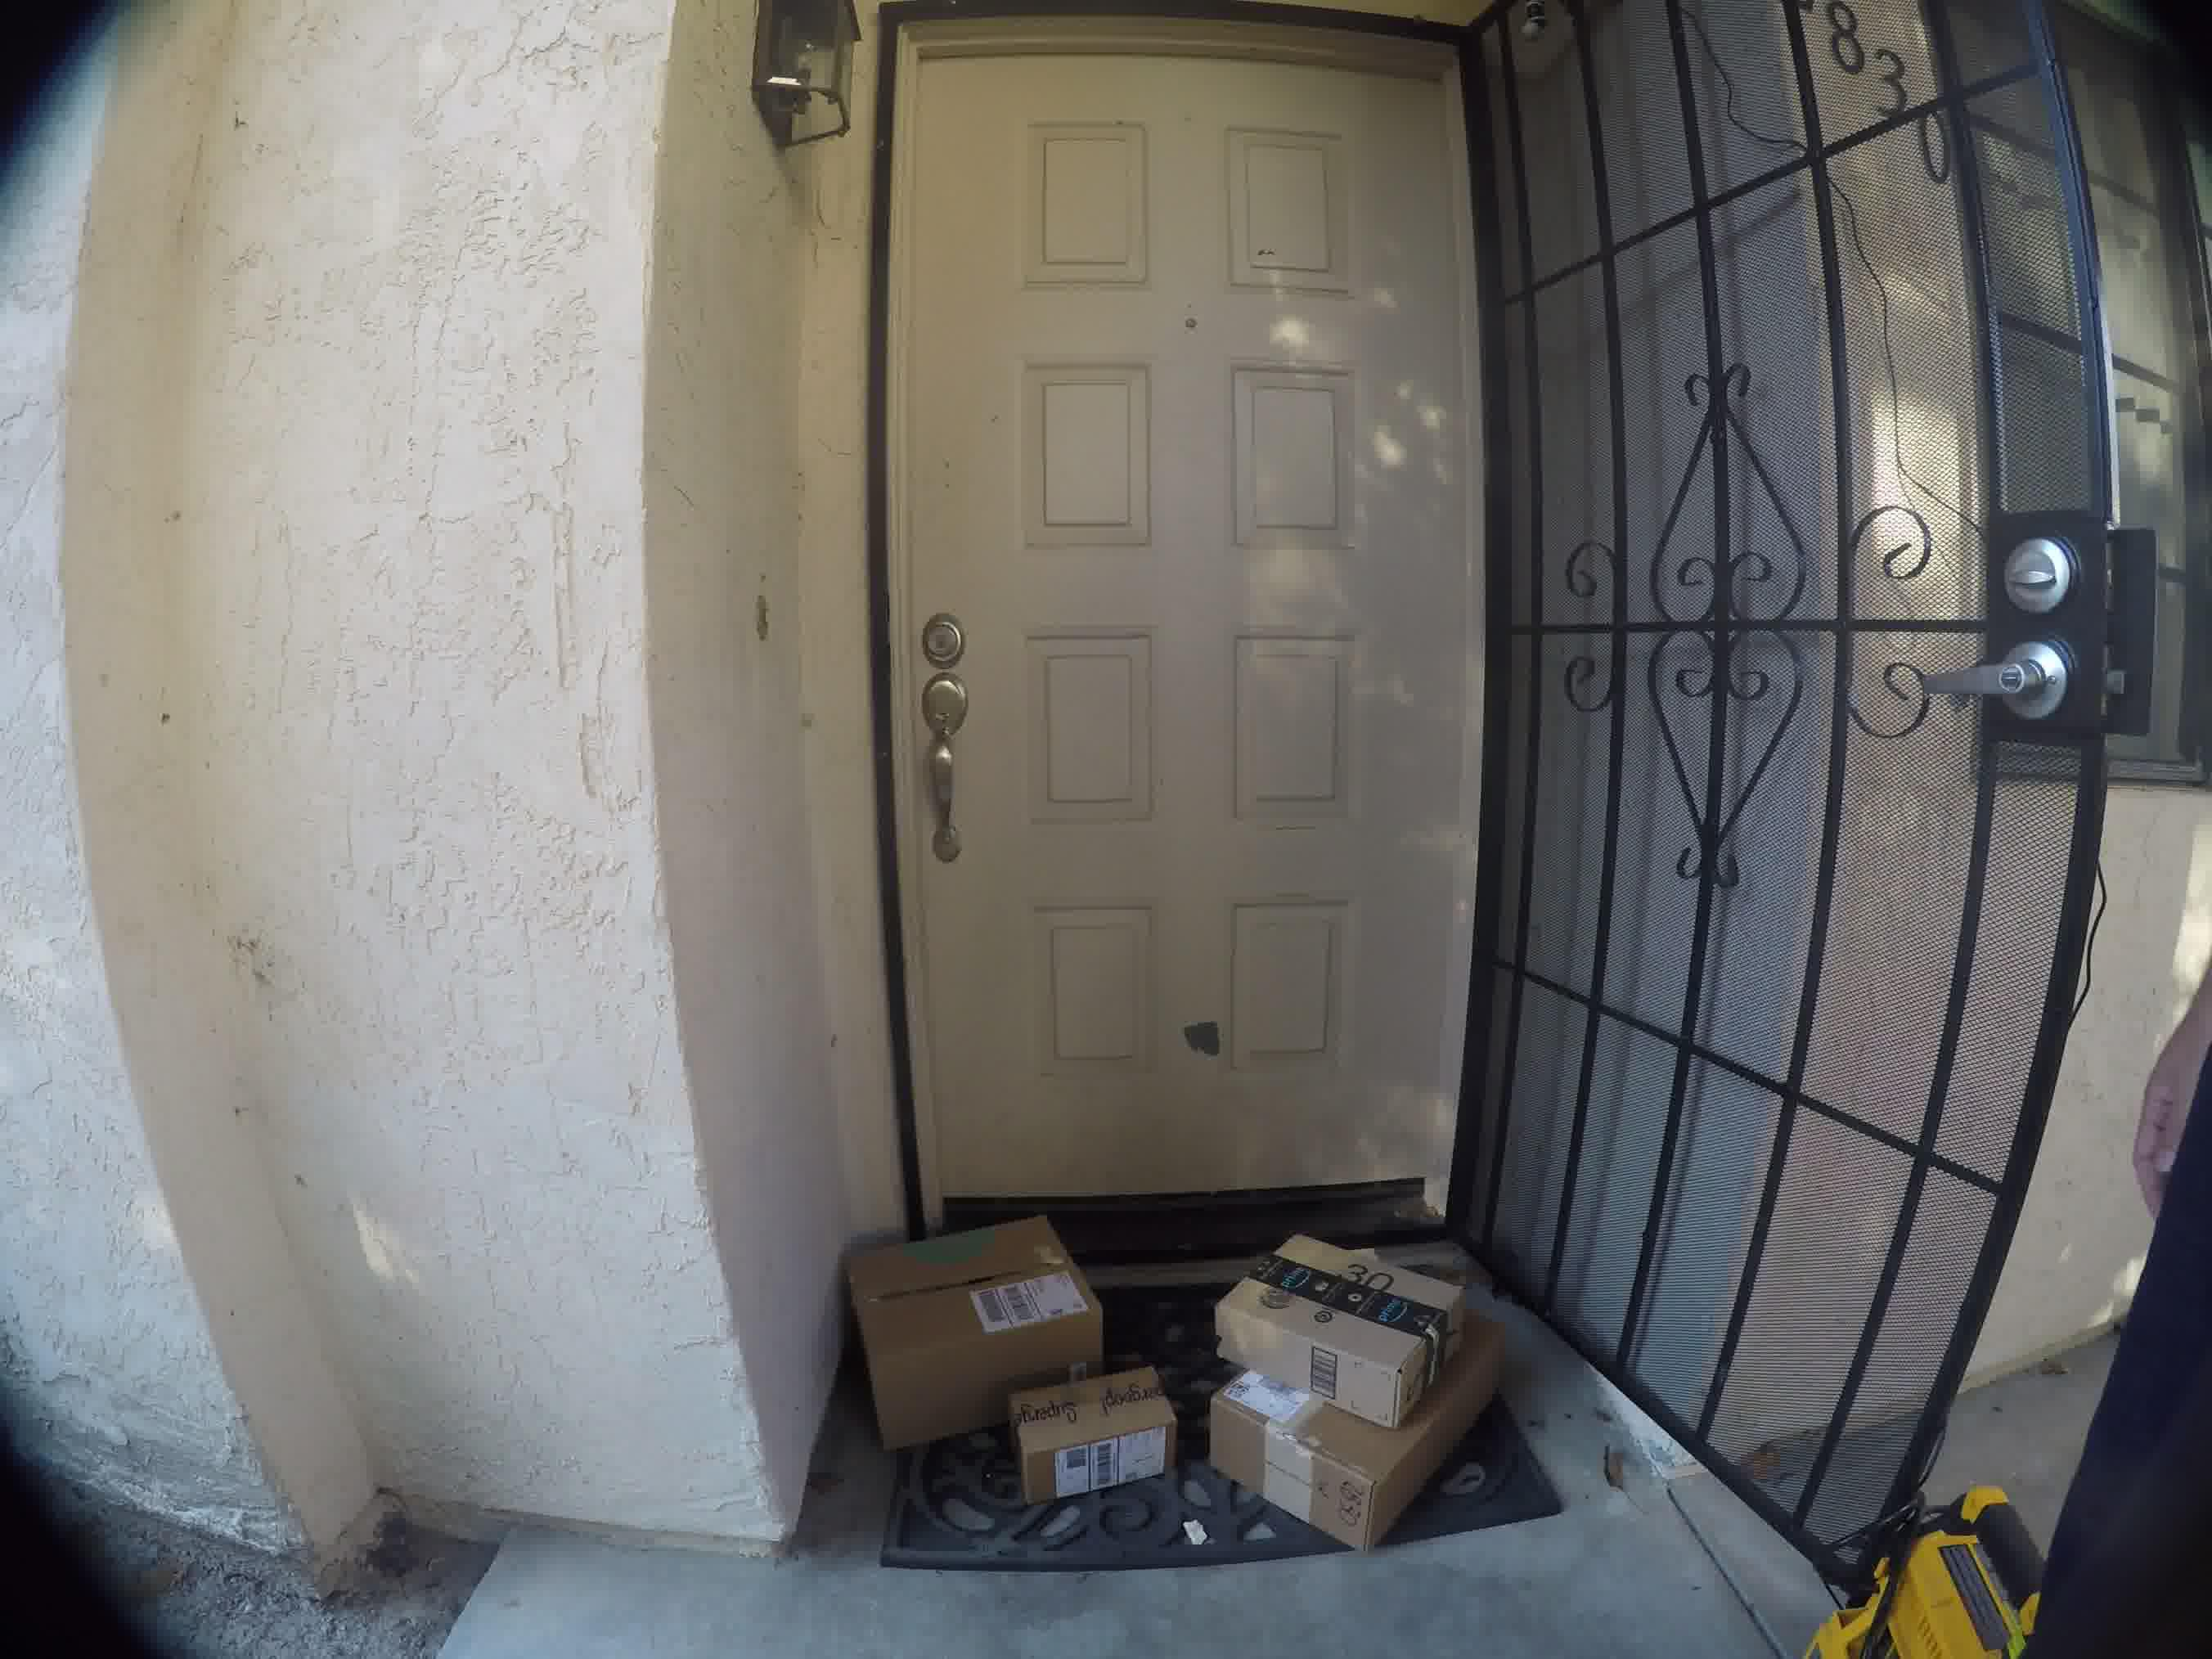box: (840, 1182, 1099, 1396), (1200, 1399, 1524, 1528), (1200, 1223, 1454, 1387), (1001, 1405, 1186, 1486)
